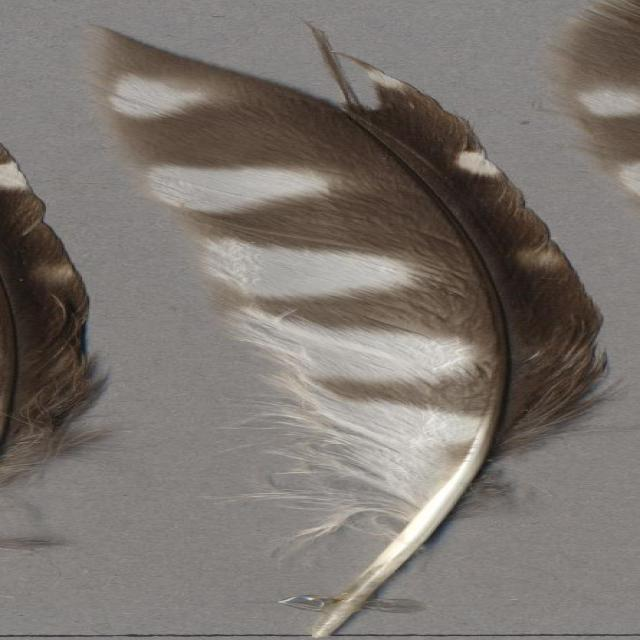feather: (86, 15, 628, 640)
